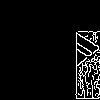H: (25, 25, 100, 83)
